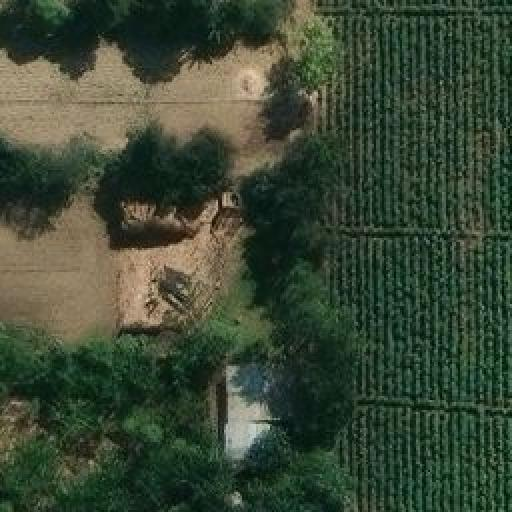manzanas: (213, 357, 313, 510)
